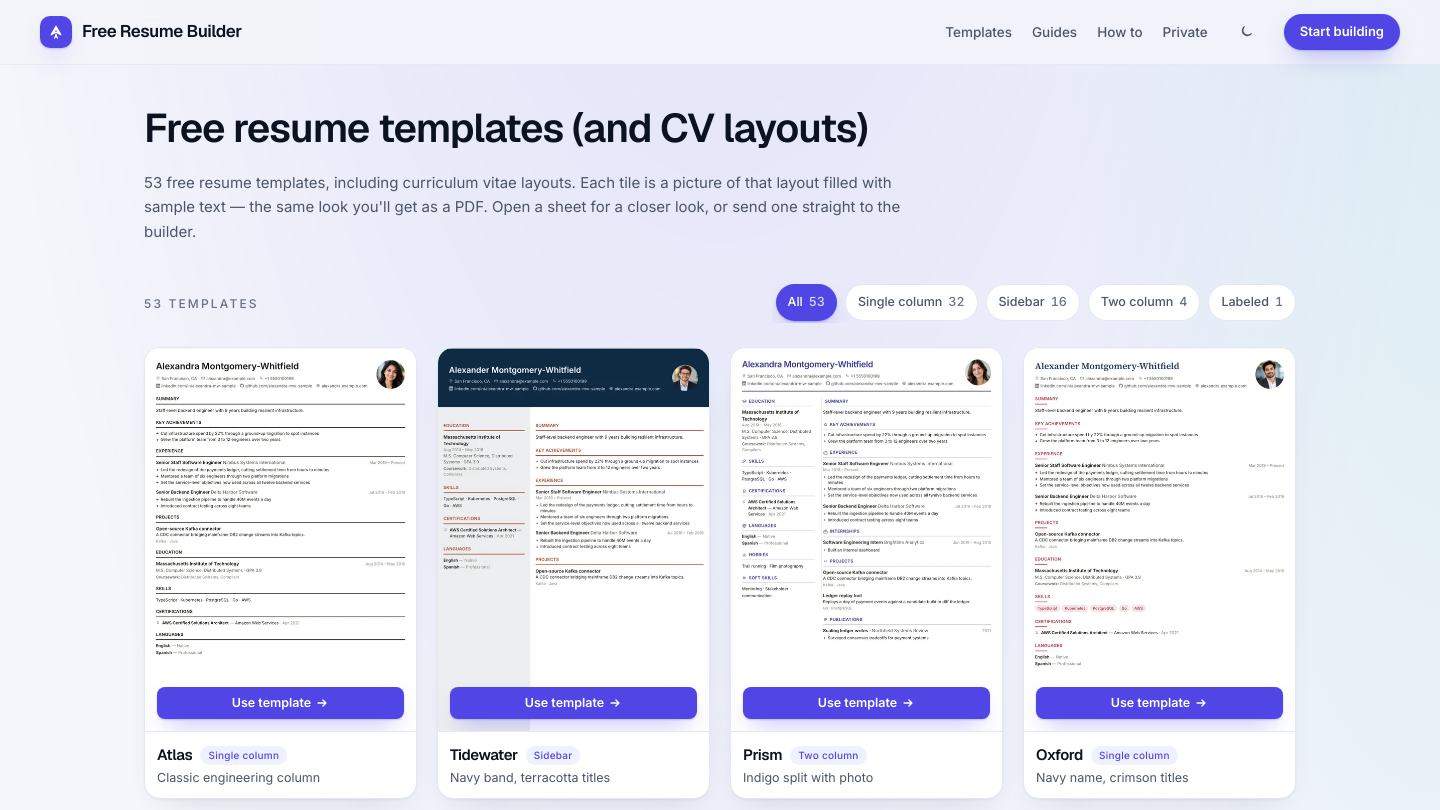
templates gallery › shows the new two-tone templates under their layout filters
The width and height of the screenshot is (1440, 810).
Step 1. Click the button with aria-label "Sidebar," → (1033, 302), box left=986, top=284, right=1080, bottom=321
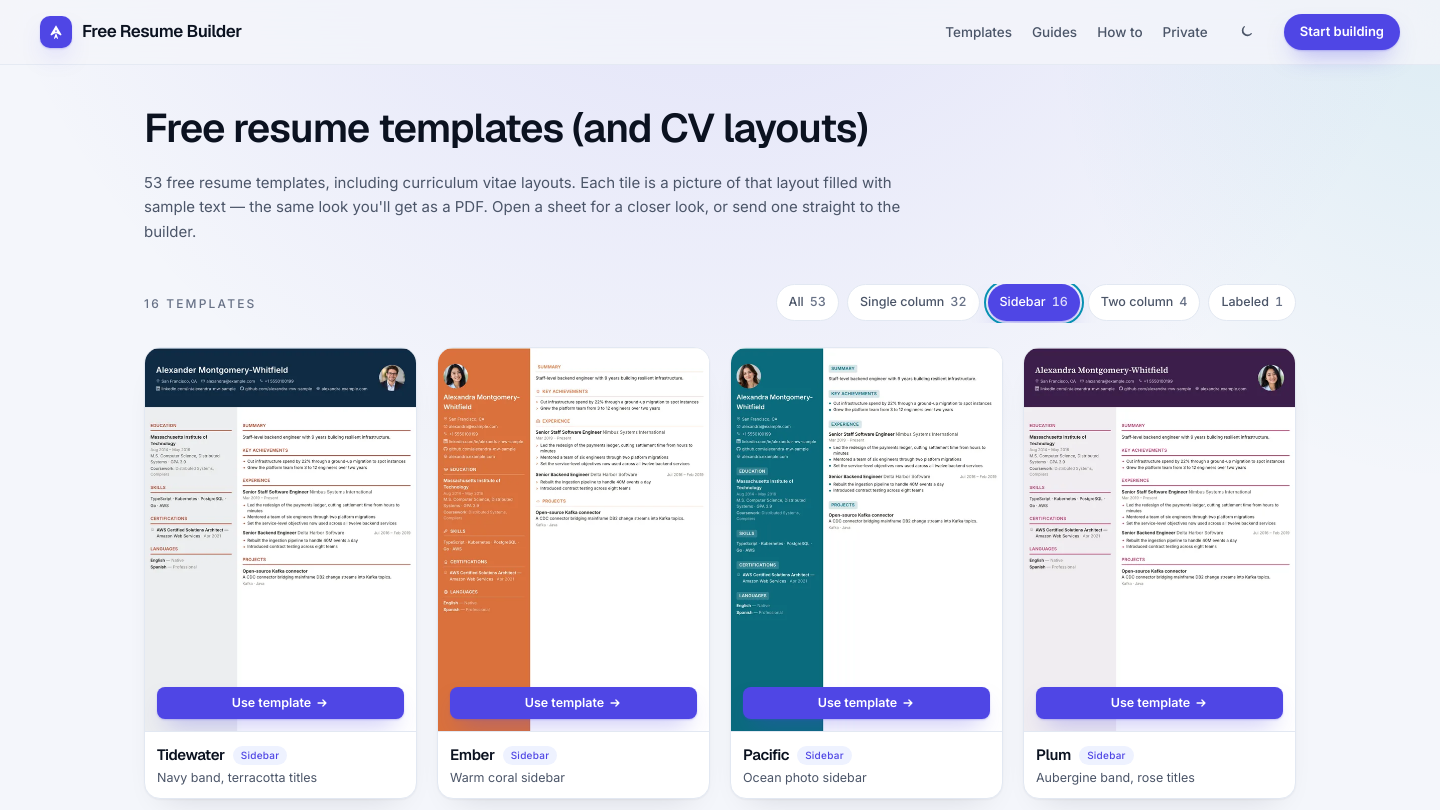
Expected: the heading "Tidewater" is shown, left=157, top=744, right=225, bottom=767
Now the heading "Oxford" is gone
Step 2. Click the button with aria-label "Single column," → (913, 302), box left=847, top=284, right=980, bottom=321
(page scrolled)
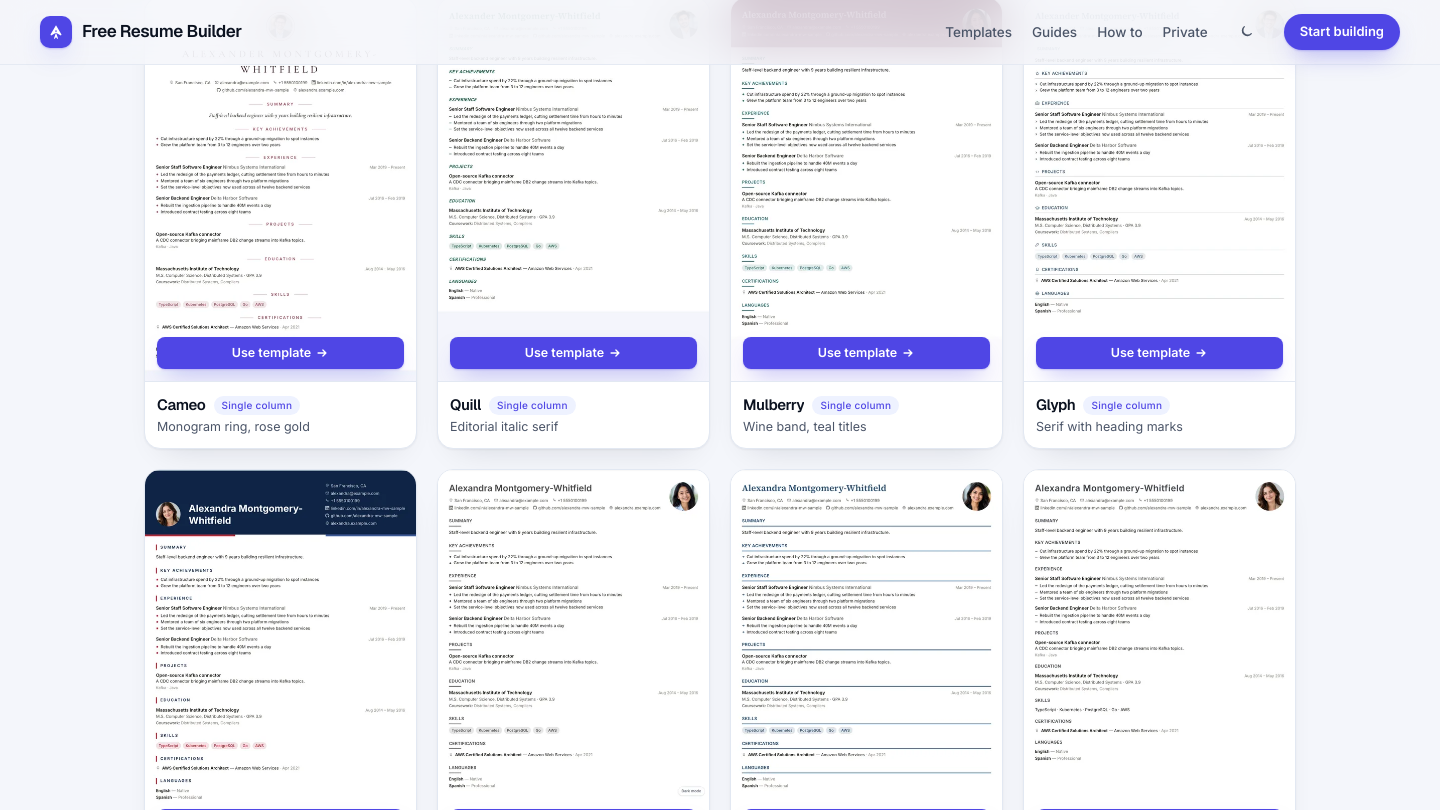
Now the heading "Mulberry" is shown, box left=743, top=394, right=804, bottom=416
Now the heading "Tidewater" is gone
